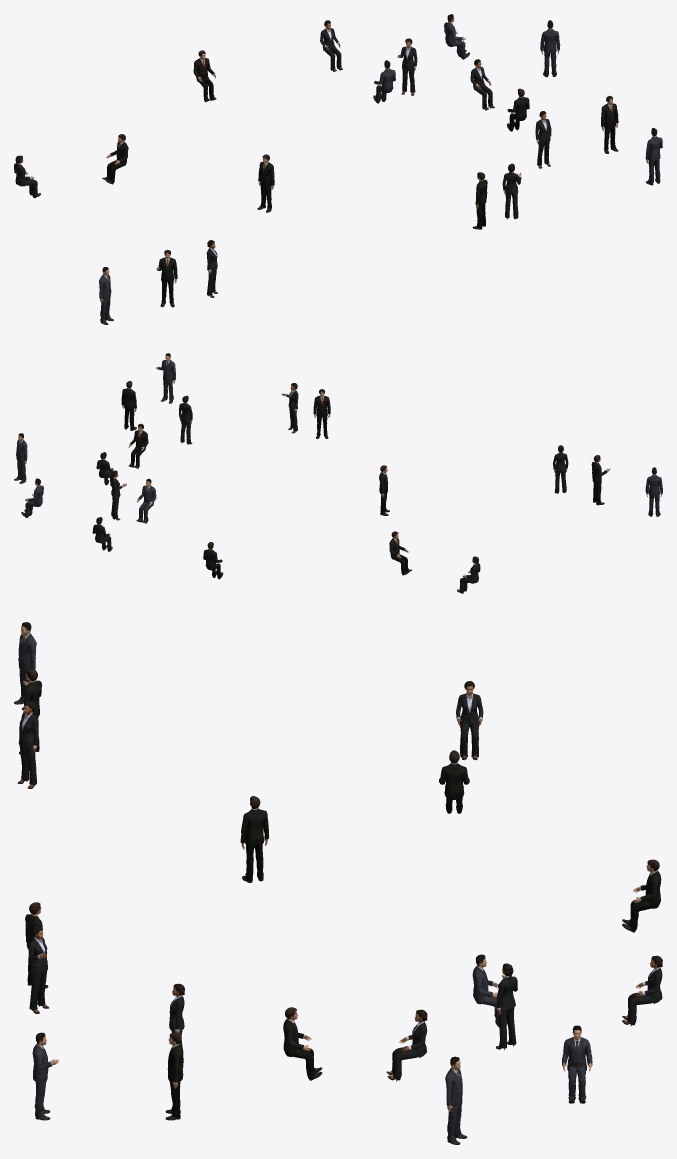
Rendered from grand-rental-finish-v2-visitors.glb.
3 renders of one model, top to bottom at view 1: azimuth 30°, elevation 25°; view 2: azimuth 150°, elevation 25°; view 3: azimuth 270°, elevation 25°, orthographic. The views are drawn at different scales.
Visible parts, largest first — view 1: Rocketbox | Business_Male_02 | body | visitor.002, Rocketbox | Business_Male_01 | body | visitor, Rocketbox | Business_Male_01 | body | visitor.001, Rocketbox | Business_Male_01 | body | visitor.002, Rocketbox | Business_Female_01 | body | visitor.002, Rocketbox | Business_Female_01 | body | visitor.003, Rocketbox | Business_Male_02 | body | visitor, Rocketbox | Business_Female_01 | body | visitor, Rocketbox | Business_Male_01 | body | visitor.004, Rocketbox | Business_Female_01 | body | visitor.004, Rocketbox | Business_Female_01 | body | visitor.006, Rocketbox | Business_Male_02 | body | visitor.001 (+7 smaller); view 2: Rocketbox | Business_Male_01 | body | visitor.003, Rocketbox | Business_Male_02 | body | visitor.001, Rocketbox | Business_Male_01 | body | visitor, Rocketbox | Business_Male_02 | body | visitor, Rocketbox | Business_Female_01 | body | visitor.001, Rocketbox | Business_Female_01 | body | visitor, Rocketbox | Business_Male_01 | body | visitor.006, Rocketbox | Business_Male_02 | body | visitor.003, Rocketbox | Business_Male_02 | body | visitor.002, Rocketbox | Business_Male_01 | body | visitor.001, Rocketbox | Business_Male_01 | body | visitor.005, Rocketbox | Business_Male_01 | body | visitor.004 (+6 smaller); view 3: Rocketbox | Business_Male_01 | body | visitor.002, Rocketbox | Business_Male_02 | body | visitor.004, Rocketbox | Business_Female_01 | body | visitor.005, Rocketbox | Business_Female_01 | body | visitor.001, Rocketbox | Business_Female_01 | body | visitor.002, Rocketbox | Business_Female_01 | body | visitor.003, Rocketbox | Business_Male_02 | body | visitor.002, Rocketbox | Business_Male_01 | body | visitor.004, Rocketbox | Business_Male_01 | body | visitor.006, Rocketbox | Business_Female_01 | body | visitor.006, Rocketbox | Business_Male_01 | body | visitor.005, Rocketbox | Business_Female_01 | body | visitor.004 (+4 smaller).
Part boxes in pixels (x1,y1,x2,y2): Rocketbox | Business_Male_02 | body | visitor.002: [540, 20, 560, 77]; Rocketbox | Business_Male_01 | body | visitor: [601, 96, 618, 153]; Rocketbox | Business_Male_01 | body | visitor.001: [156, 250, 177, 307]; Rocketbox | Business_Male_01 | body | visitor.002: [257, 154, 274, 212]; Rocketbox | Business_Female_01 | body | visitor.002: [397, 38, 417, 95]; Rocketbox | Business_Female_01 | body | visitor.003: [502, 163, 521, 219]; Rocketbox | Business_Male_02 | body | visitor: [645, 128, 662, 185]; Rocketbox | Business_Female_01 | body | visitor: [535, 111, 551, 168]; Rocketbox | Business_Male_01 | body | visitor.004: [193, 50, 216, 102]; Rocketbox | Business_Female_01 | body | visitor.004: [320, 20, 342, 71]; Rocketbox | Business_Female_01 | body | visitor.006: [470, 59, 494, 110]; Rocketbox | Business_Male_02 | body | visitor.001: [99, 267, 113, 324]; Rocketbox | Business_Male_01 | body | visitor.003: [313, 389, 330, 438]; Rocketbox | Business_Male_02 | body | visitor.001: [645, 467, 662, 516]; Rocketbox | Business_Male_01 | body | visitor: [121, 381, 136, 430]; Rocketbox | Business_Male_02 | body | visitor: [156, 353, 175, 403]; Rocketbox | Business_Female_01 | body | visitor.001: [553, 445, 568, 493]; Rocketbox | Business_Female_01 | body | visitor: [179, 395, 192, 444]; Rocketbox | Business_Male_01 | body | visitor.006: [128, 423, 148, 468]; Rocketbox | Business_Male_02 | body | visitor.003: [136, 478, 156, 523]; Rocketbox | Business_Male_02 | body | visitor.002: [14, 433, 27, 483]; Rocketbox | Business_Male_01 | body | visitor.001: [591, 455, 610, 505]; Rocketbox | Business_Male_01 | body | visitor.005: [389, 531, 411, 575]; Rocketbox | Business_Male_01 | body | visitor.004: [203, 542, 223, 579]; Rocketbox | Business_Male_01 | body | visitor.002: [240, 796, 269, 882]; Rocketbox | Business_Male_02 | body | visitor.004: [562, 1025, 592, 1103]; Rocketbox | Business_Female_01 | body | visitor.005: [456, 681, 483, 760]; Rocketbox | Business_Female_01 | body | visitor.001: [17, 701, 38, 788]; Rocketbox | Business_Female_01 | body | visitor.002: [496, 963, 517, 1049]; Rocketbox | Business_Female_01 | body | visitor.003: [28, 926, 48, 1013]; Rocketbox | Business_Male_02 | body | visitor.002: [445, 1056, 467, 1144]; Rocketbox | Business_Male_01 | body | visitor.004: [622, 859, 661, 932]; Rocketbox | Business_Male_01 | body | visitor.006: [283, 1007, 322, 1080]; Rocketbox | Business_Female_01 | body | visitor.006: [386, 1009, 427, 1081]; Rocketbox | Business_Male_01 | body | visitor.005: [439, 750, 469, 813]; Rocketbox | Business_Female_01 | body | visitor.004: [622, 955, 662, 1025].
Bounding box in the file's own units: 20.64 × 1.79 × 12.69.
Materials: 9 (9 with a texture image).
